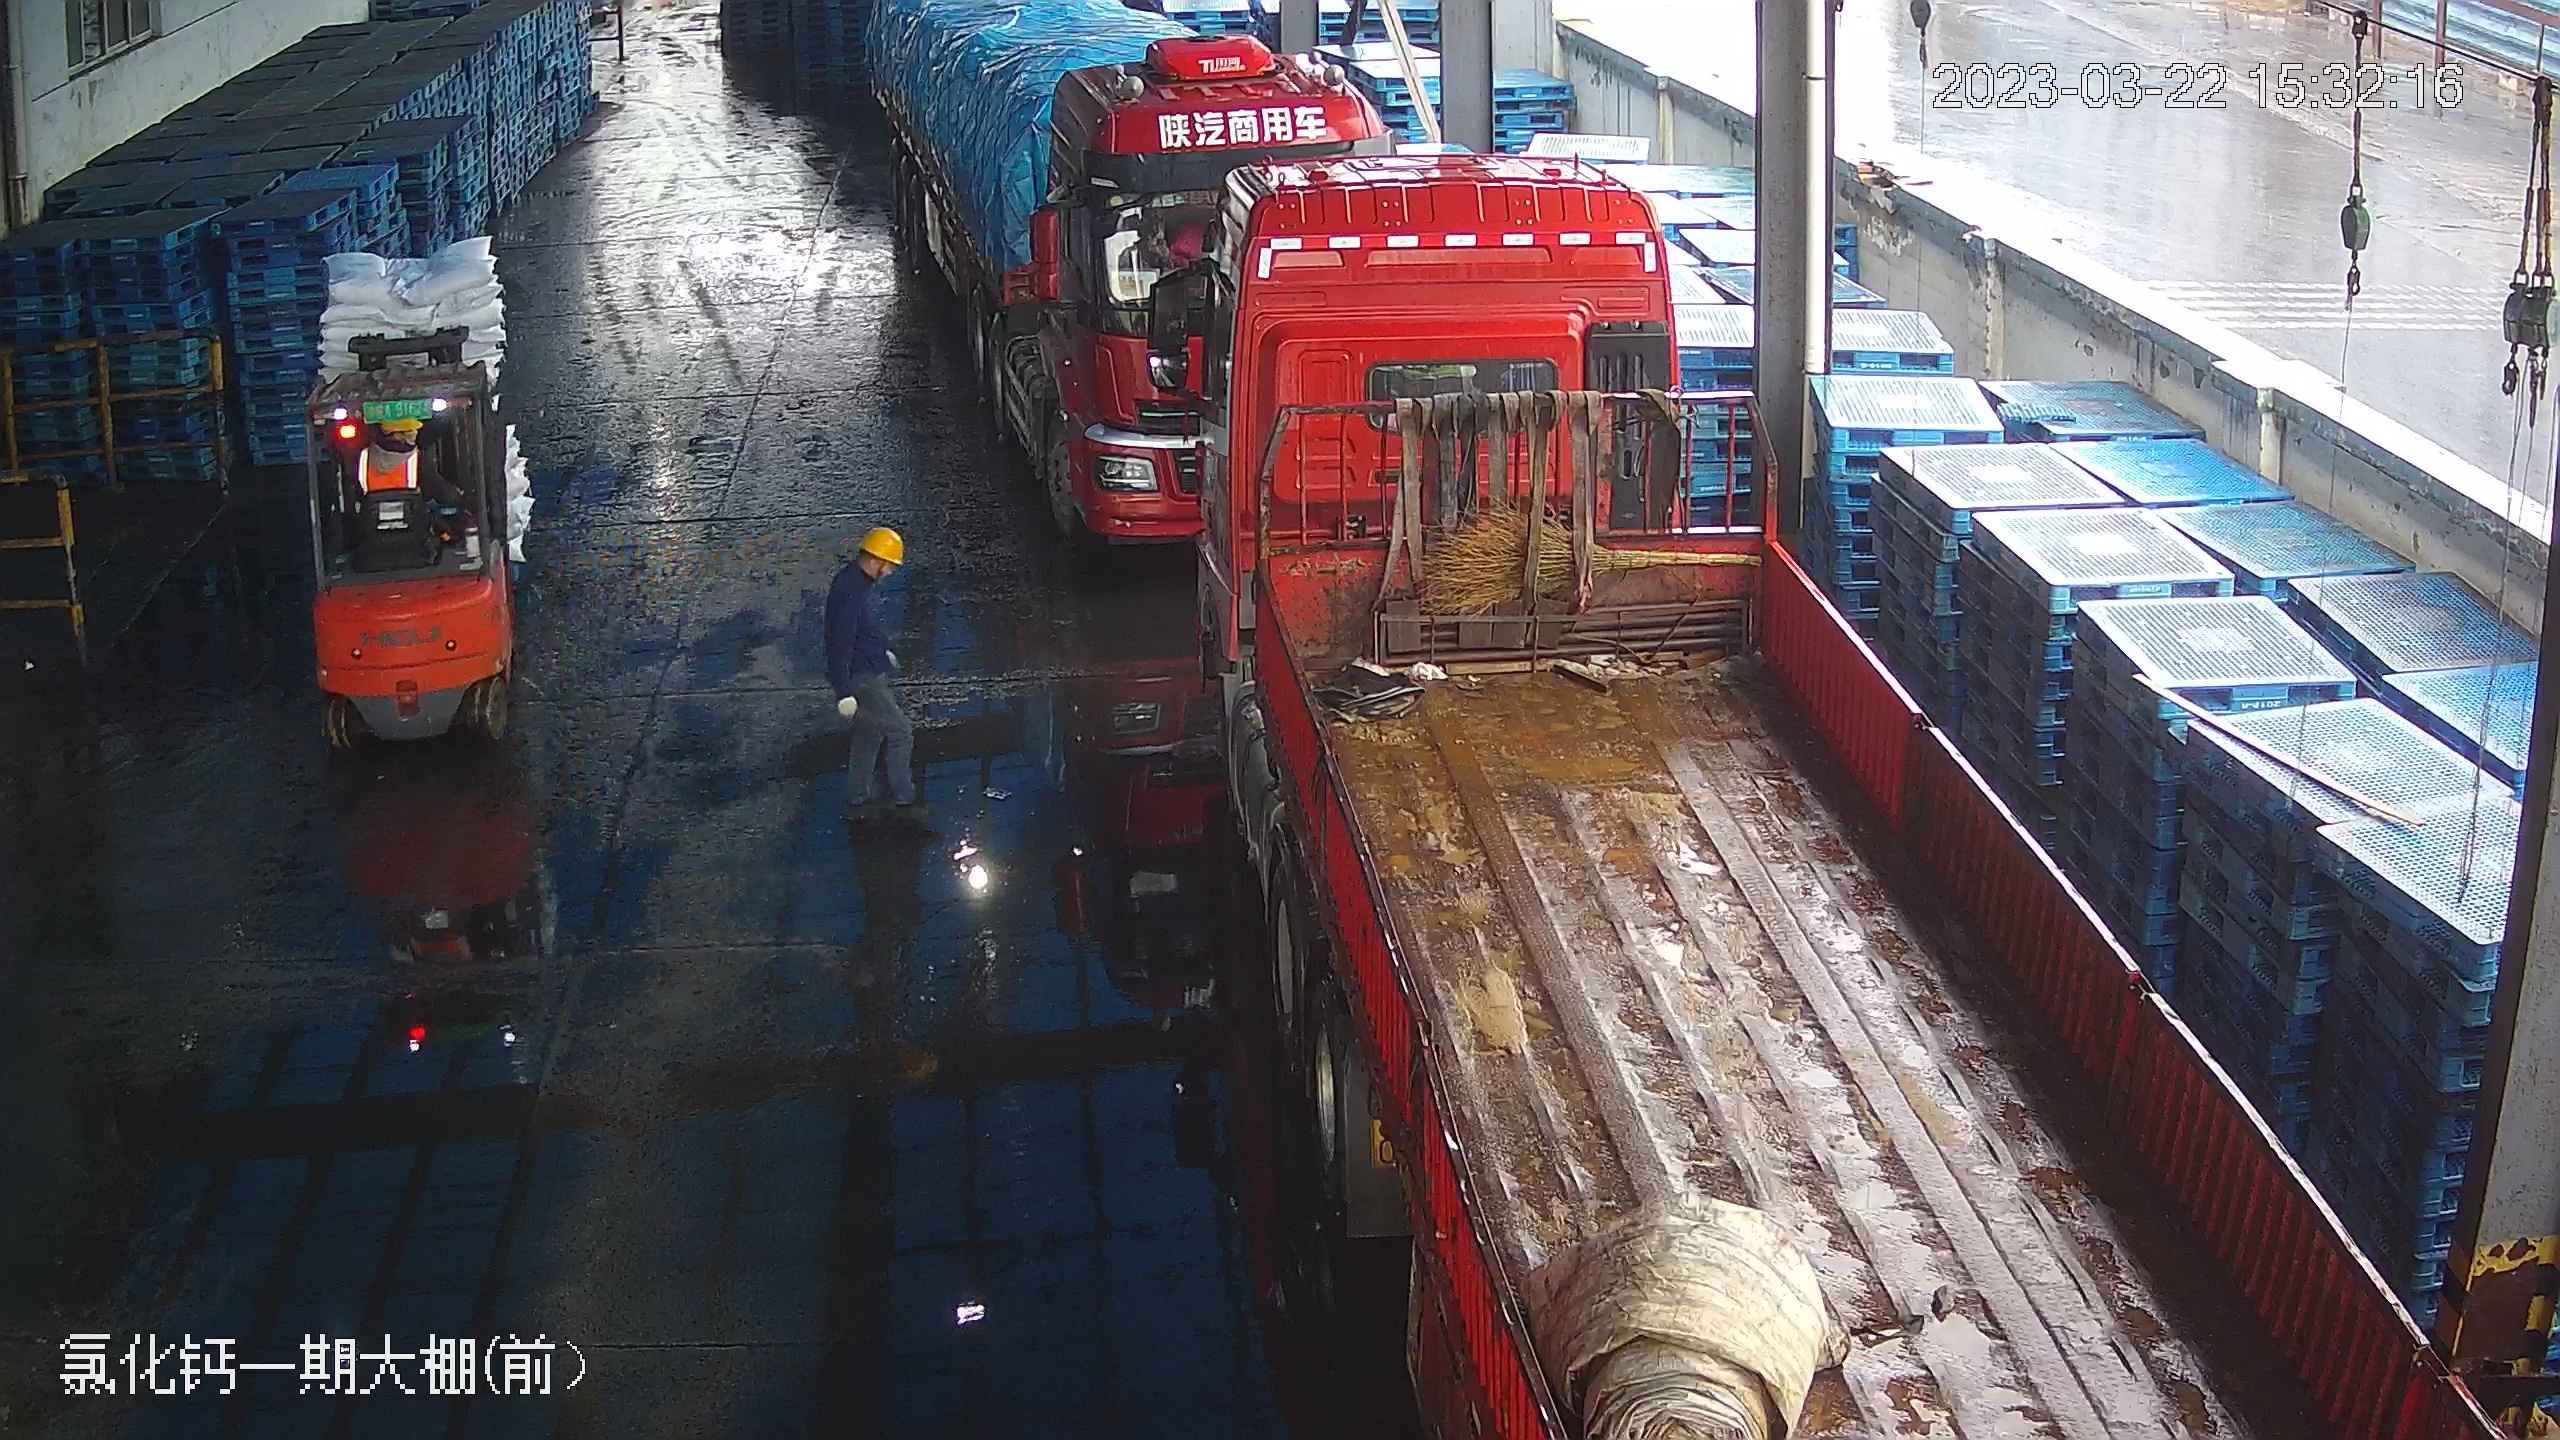head: (826, 526, 905, 605)
helmet: (860, 525, 907, 565)
people: (817, 524, 914, 795)
truck: (1182, 132, 2492, 1438), (887, 15, 1589, 571)
